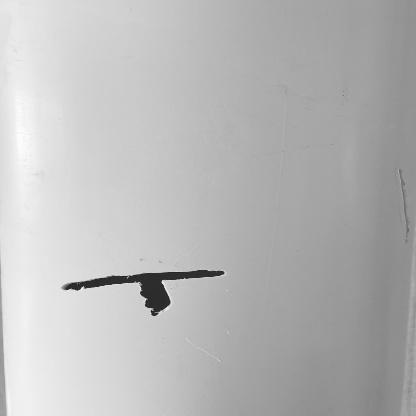fengxi: (59, 267, 226, 291)
kongdong: (139, 285, 169, 317)
sunshang: (398, 168, 414, 248)
